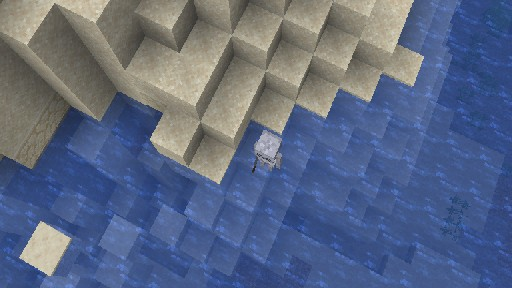skeleton: (251, 128, 283, 173)
